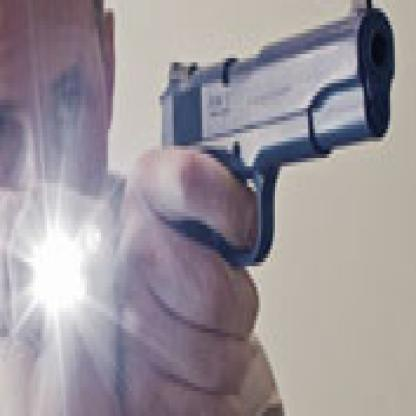gun: (146, 0, 411, 287)
